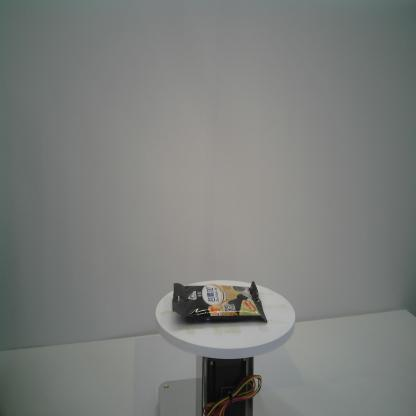Instant Drink: (171, 281, 267, 323)
